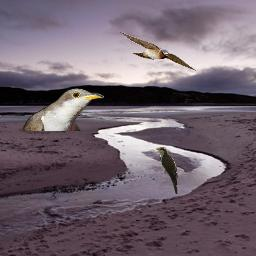Cuckoo: (23, 88, 104, 131), (155, 147, 179, 195)
Swallow: (118, 30, 197, 71)
